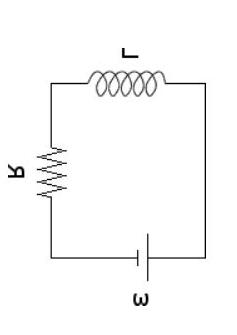inductor: (74, 57, 175, 112)
